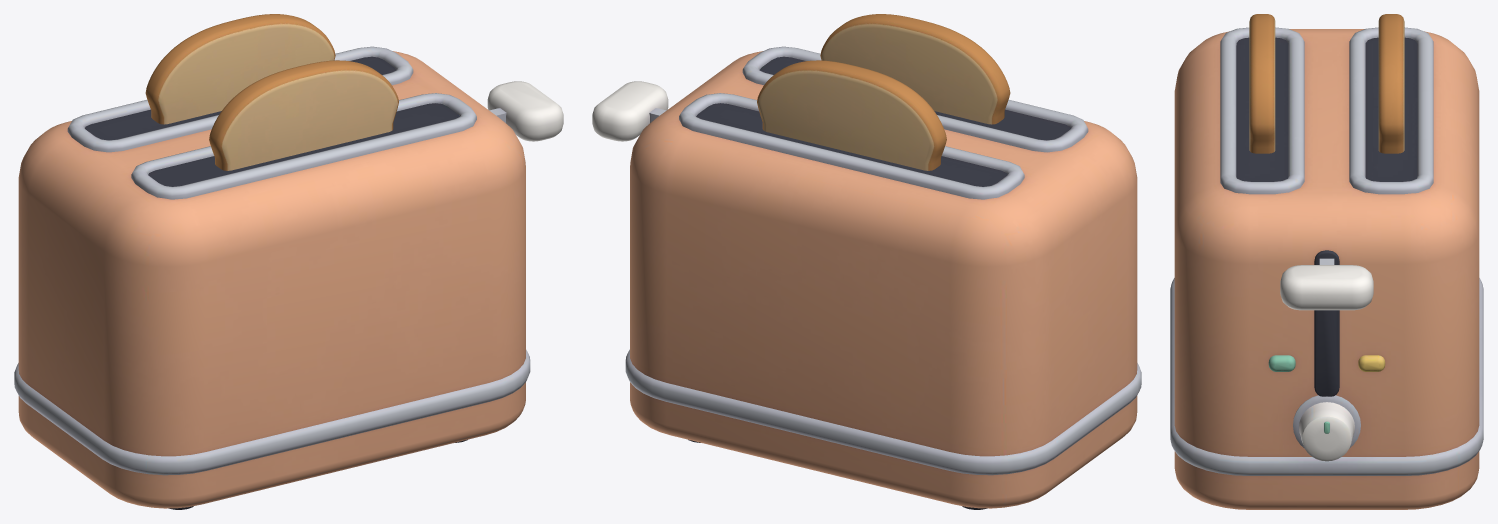
The model's file is toaster.glb.
The picture shows the model from 3 angles, left to right: view 1: azimuth 30°, elevation 25°; view 2: azimuth 150°, elevation 25°; view 3: azimuth 270°, elevation 25°; orthographic projection.
Parts seen in each view (by area): view 1: toaster_body, toaster_bread, toaster_lever; view 2: toaster_body, toaster_bread, toaster_lever; view 3: toaster_body, toaster_bread, toaster_lever.
Boxes of the visible parts, x1,y1,x2,y2 form: toaster_body: (14, 46, 530, 509); toaster_bread: (145, 14, 398, 170); toaster_lever: (487, 81, 563, 141); toaster_body: (625, 46, 1141, 509); toaster_bread: (757, 14, 1010, 170); toaster_lever: (592, 81, 668, 141); toaster_body: (1170, 27, 1483, 509); toaster_bread: (1249, 14, 1404, 153); toaster_lever: (1280, 258, 1373, 310).
Size of the model in its own units: 0.3185 by 0.245 by 0.175.
3 materials, 3 textured.
